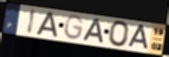A: (35, 11, 59, 39), (81, 17, 105, 45), (127, 24, 150, 51)
G: (64, 13, 85, 41)
I: (26, 7, 37, 36)
O: (108, 20, 131, 48)
